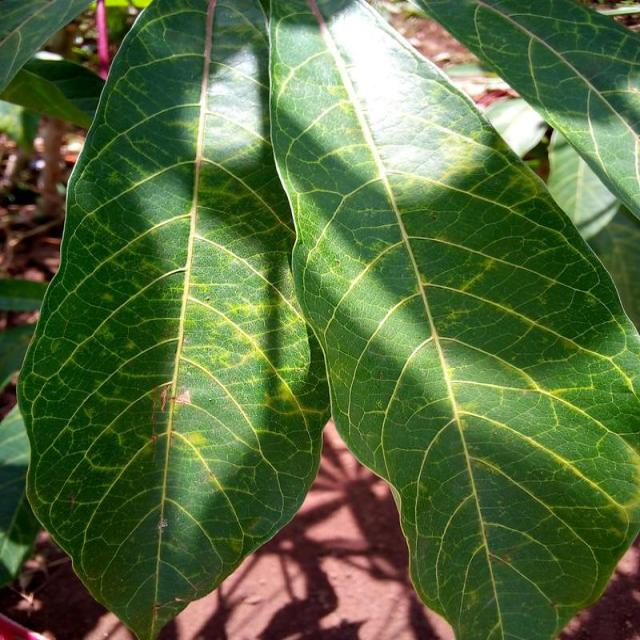cassava leaf: (266, 0, 640, 638), (17, 0, 334, 638), (411, 0, 640, 222)
